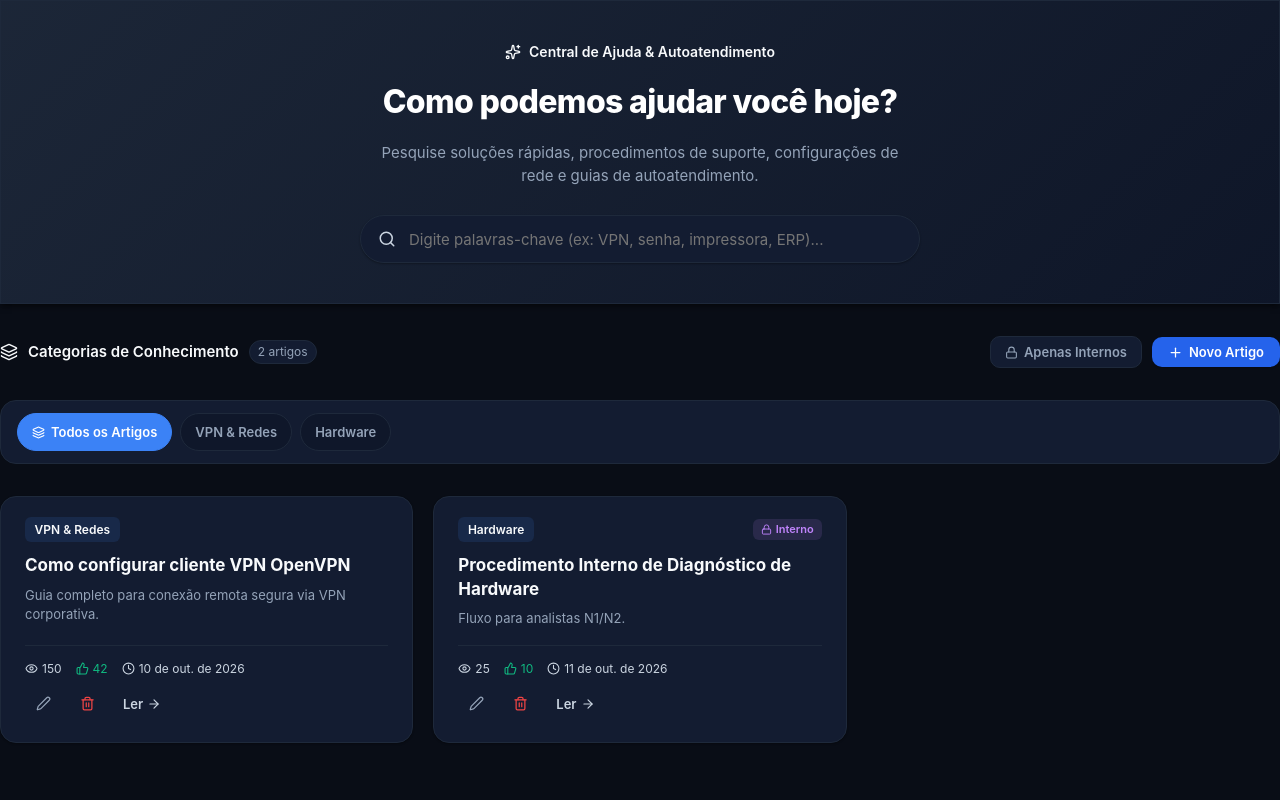
it: KnowledgeBasePage Component › allows staff to open create article modal
What coordinates should you click on to do the following:
click the button "Novo Artigo"
I would click on:
 (1216, 352)
Its box is [1152, 337, 1279, 367].
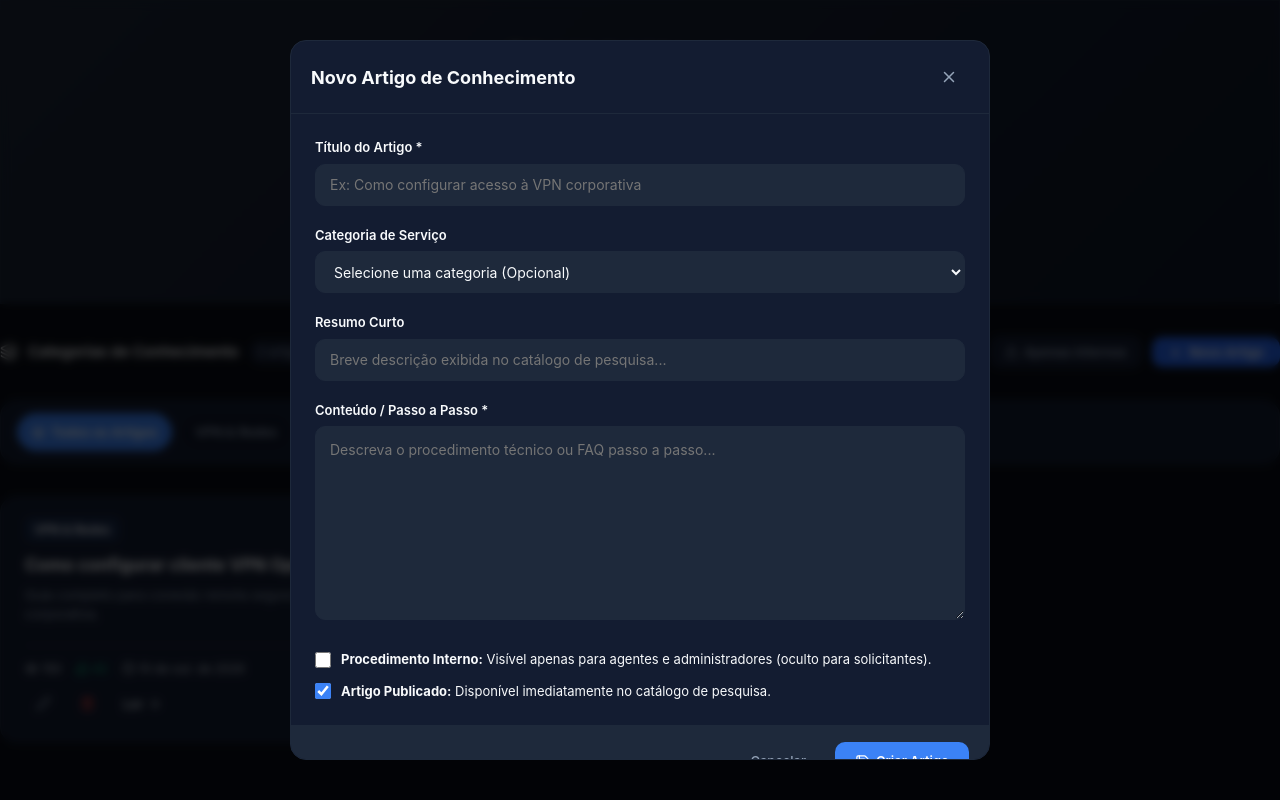
Result: the heading "Novo Artigo de Conhecimento" is shown at [311, 64, 576, 90]
Result: the field with placeholder "Ex: Como configurar acesso à VPN corporativa" is shown at [315, 164, 965, 206]
